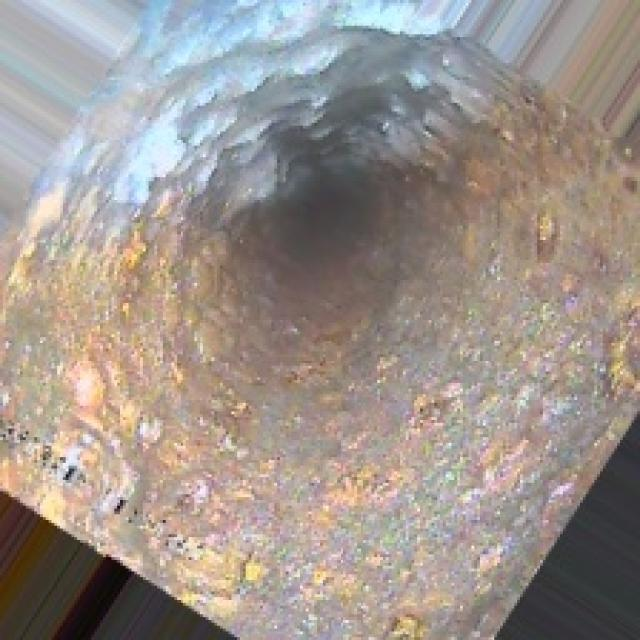encrustation: (106, 28, 563, 443)
